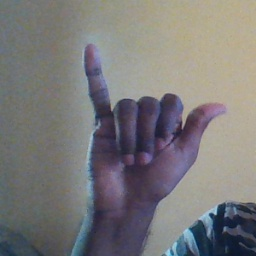J: (78, 41, 230, 206)
